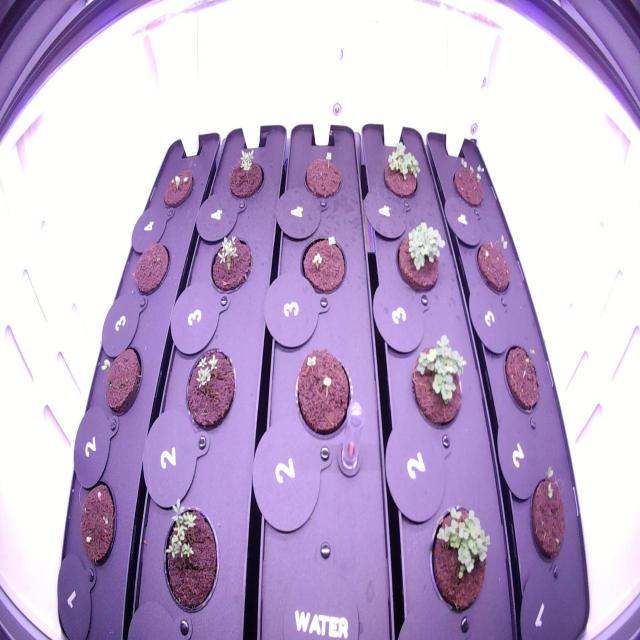germination: (426, 496, 493, 628), (158, 494, 222, 622), (407, 328, 472, 447), (289, 336, 355, 444), (182, 340, 239, 438), (524, 458, 569, 574), (74, 472, 122, 575), (392, 216, 446, 300), (95, 340, 146, 425), (498, 334, 543, 424), (297, 220, 348, 296), (206, 225, 255, 295), (297, 142, 345, 209), (378, 135, 424, 203), (472, 229, 514, 297), (224, 141, 268, 202), (449, 150, 488, 208), (158, 164, 198, 216)
pod: (130, 240, 174, 303)
